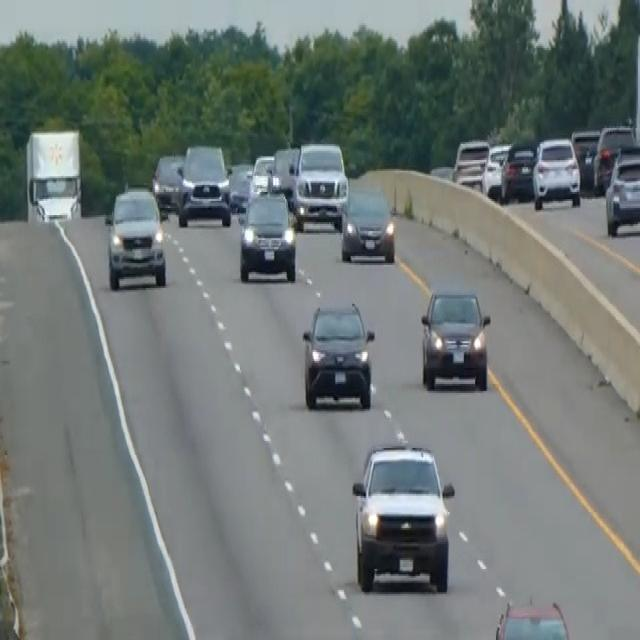car: (419, 285, 491, 391), (104, 183, 167, 290), (238, 188, 297, 282), (292, 139, 348, 229), (177, 142, 231, 228), (340, 183, 395, 263), (531, 135, 581, 210), (493, 596, 572, 638), (604, 144, 639, 236), (592, 122, 636, 194), (500, 137, 537, 203), (451, 135, 489, 189), (151, 151, 184, 213), (570, 126, 600, 187), (269, 144, 299, 204), (481, 141, 511, 199), (227, 160, 253, 212), (249, 153, 275, 197)
jeep: (349, 436, 456, 594), (300, 298, 376, 411)
lorry: (23, 124, 84, 226)
